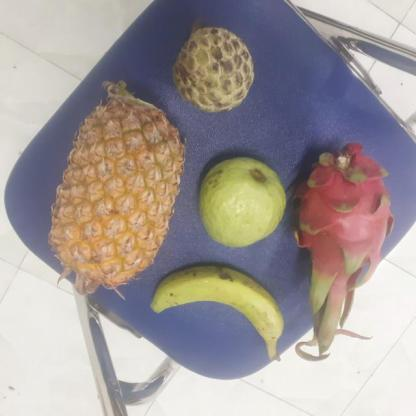annona: (168, 27, 254, 115)
banana: (150, 268, 280, 352)
guava: (193, 158, 286, 250)
pineapple: (44, 90, 181, 292)
pitaya: (288, 146, 390, 291)
